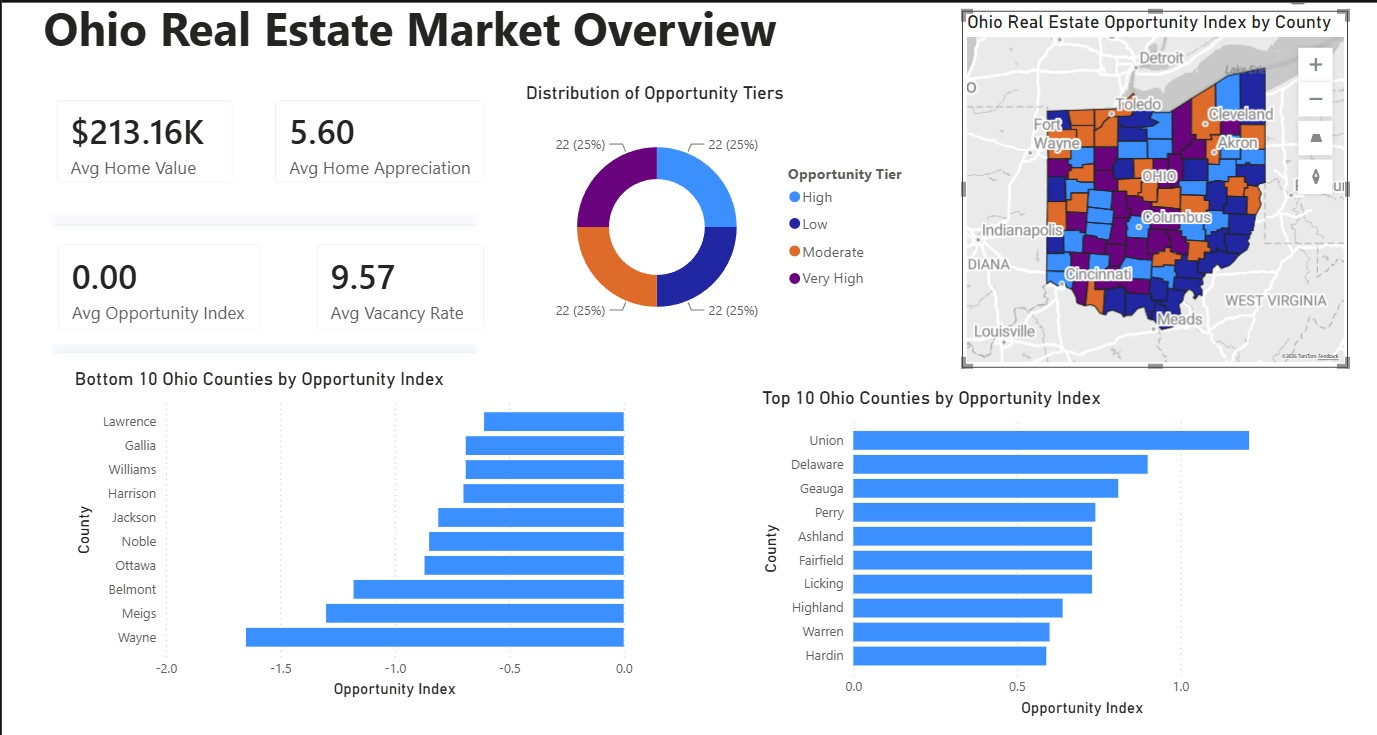

The page's visual inventory and layout, read from the dashboard file:
{"tool":"powerbi","page":{"name":"Market Overview","canvas":[1280,720],"ordinal":0},"visuals":[{"type":"cardVisual","fields":{"Data":["ohio_real_estate_dashboard_data.Avg Home Appreciation"]},"box":[237.4,111.3,229.4,111.3],"z":0},{"type":"cardVisual","fields":{"Data":["ohio_real_estate_dashboard_data.Avg Home Value"]},"box":[34.1,111.3,198.8,111.3],"z":1000},{"type":"cardVisual","fields":{"Data":["ohio_real_estate_dashboard_data.Avg Opportunity Index"]},"box":[34.6,245.1,222.4,114.5],"z":2000},{"type":"cardVisual","fields":{"Data":["ohio_real_estate_dashboard_data.Avg Vacancy Rate"]},"box":[275.7,245.1,190.5,114.5],"z":3000},{"type":"clusteredBarChart","title":"Bottom 10 Ohio Counties by Opportunity Index","fields":{"Category":["ohio_real_estate_dashboard_data.County"],"Y":["Sum(ohio_real_estate_dashboard_data.Opportunity Index)"]},"box":[62.5,377.5,528.8,311.2],"z":4000},{"type":"clusteredBarChart","title":"Top 10 Ohio Counties by Opportunity Index","fields":{"Category":["ohio_real_estate_dashboard_data.County"],"Y":["Sum(ohio_real_estate_dashboard_data.Opportunity Index)"]},"box":[702.5,395,528.8,311.2],"z":5000},{"type":"donutChart","title":"Distribution of Opportunity Tiers","fields":{"Category":["ohio_real_estate_dashboard_data.Opportunity Tier"],"Y":["CountNonNull(ohio_real_estate_dashboard_data.County)"]},"box":[482.7,111.3,373.7,251],"z":6000},{"type":"textbox","box":[34.1,27.3,701.9,76.1],"z":7000},{"type":"azureMap","title":"Ohio Real Estate Opportunity Index by County","fields":{"Category":["ohio_real_estate_dashboard_data.County Map"],"Series":["ohio_real_estate_dashboard_data.Opportunity Tier"]},"box":[892.5,45,360,332.5],"z":8000},{"type":"shape","box":[36.2,222.5,416.2,45],"z":9000},{"type":"shape","box":[36.2,347.5,417.5,30],"z":10000}]}

Visuals, with their boxes on the page's 1280x720 design canvas (x1, y1, x2, y2). These are canvas units, not pixel positions in the 1377x735 screenshot, which may show the page scaled, cropped or inside an application window:
cardVisual - ohio_real_estate_dashboard_data.Avg Home Appreciation: Rect(237, 111, 467, 223)
cardVisual - ohio_real_estate_dashboard_data.Avg Home Value: Rect(34, 111, 233, 223)
cardVisual - ohio_real_estate_dashboard_data.Avg Opportunity Index: Rect(35, 245, 257, 360)
cardVisual - ohio_real_estate_dashboard_data.Avg Vacancy Rate: Rect(276, 245, 466, 360)
"Bottom 10 Ohio Counties by Opportunity Index" clusteredBarChart: Rect(62, 378, 591, 689)
"Top 10 Ohio Counties by Opportunity Index" clusteredBarChart: Rect(702, 395, 1231, 706)
"Distribution of Opportunity Tiers" donutChart: Rect(483, 111, 856, 362)
textbox: Rect(34, 27, 736, 103)
"Ohio Real Estate Opportunity Index by County" azureMap: Rect(892, 45, 1252, 378)
shape: Rect(36, 222, 452, 268)
shape: Rect(36, 348, 454, 378)
